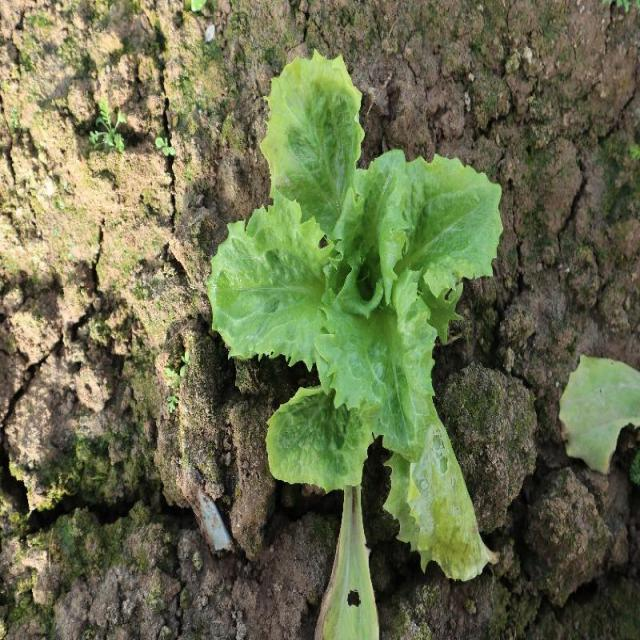crop: (210, 55, 503, 581)
